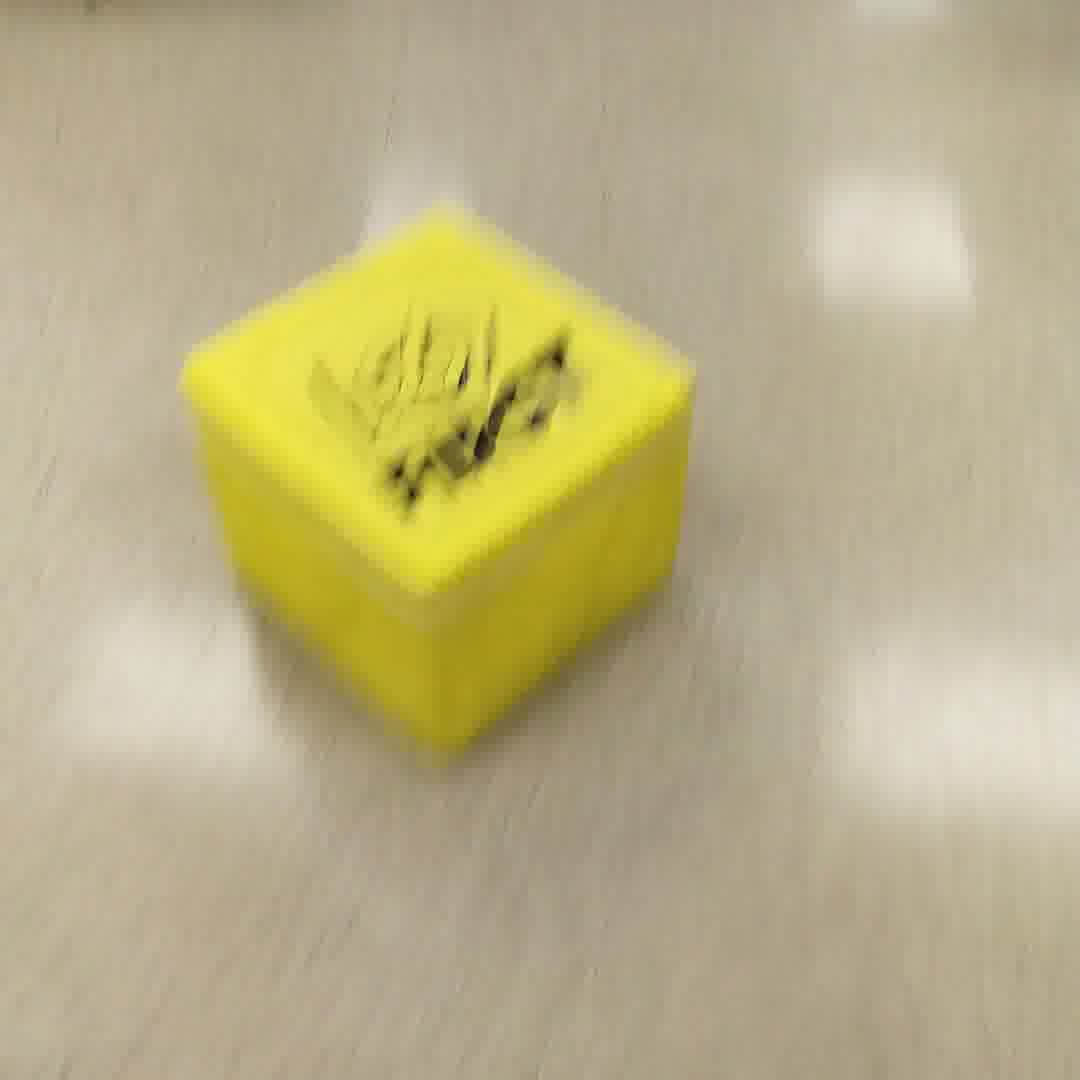box: (172, 197, 697, 760)
